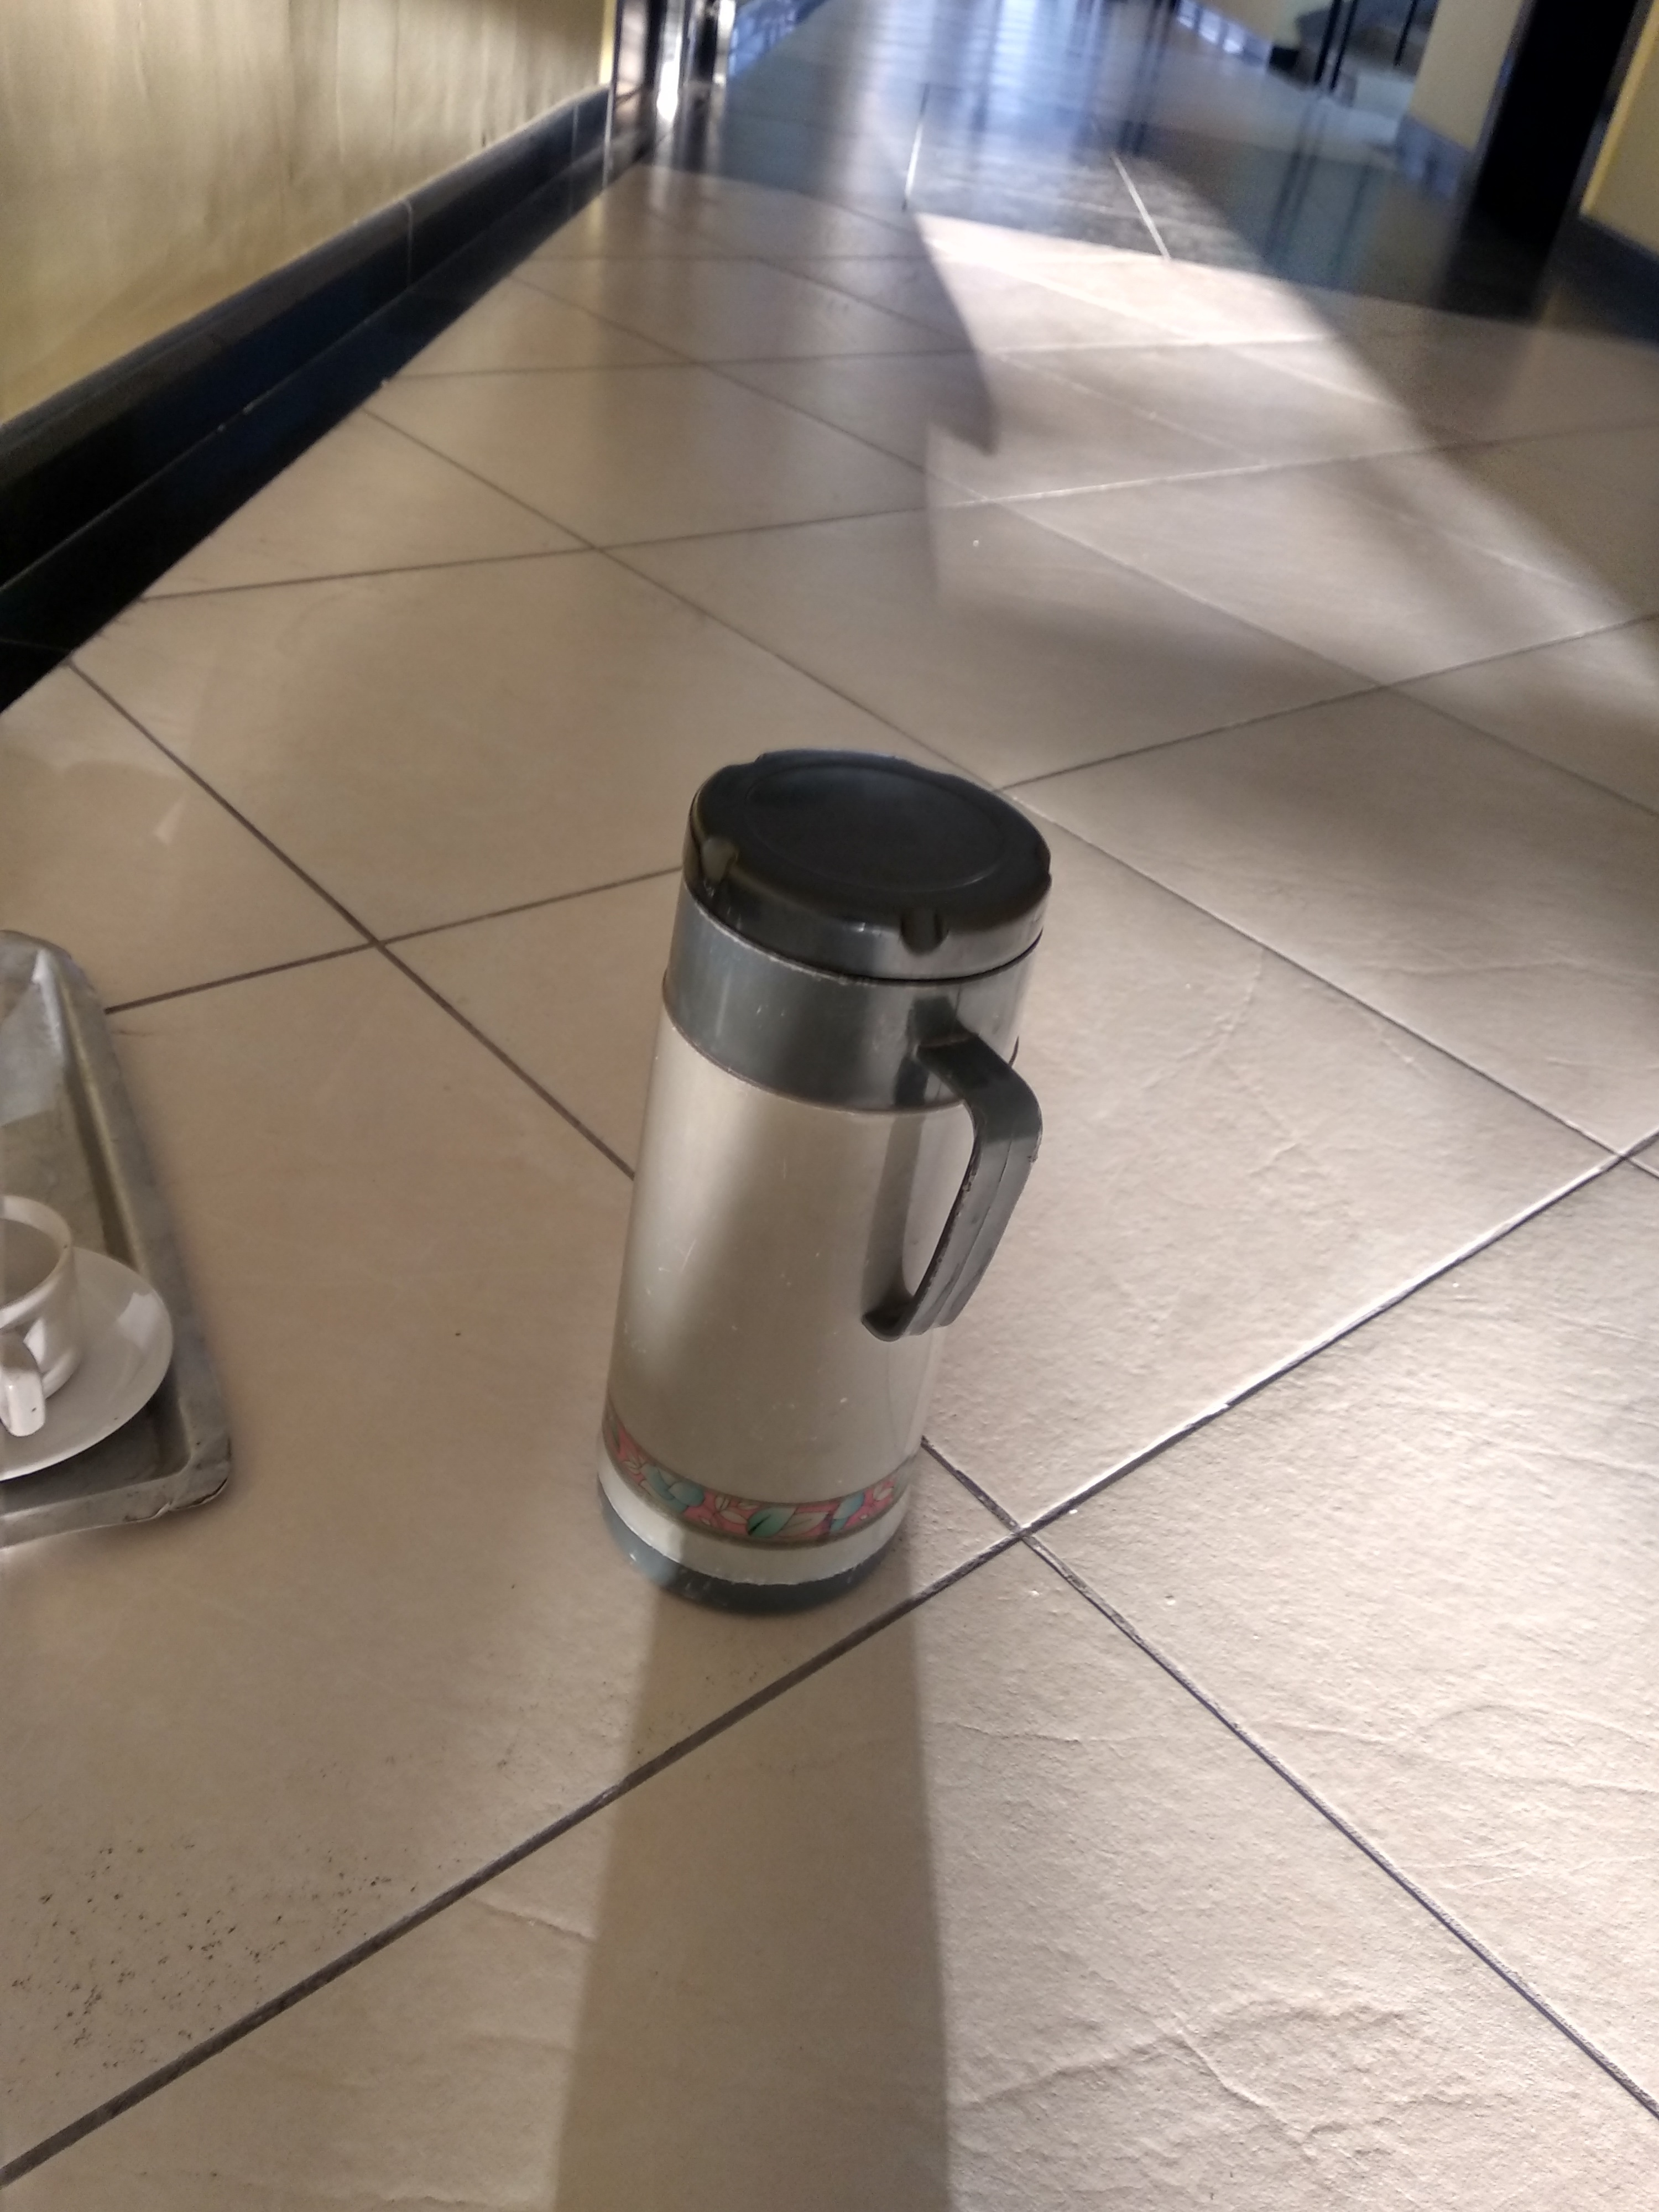JUG: (599, 726, 1060, 1623)
